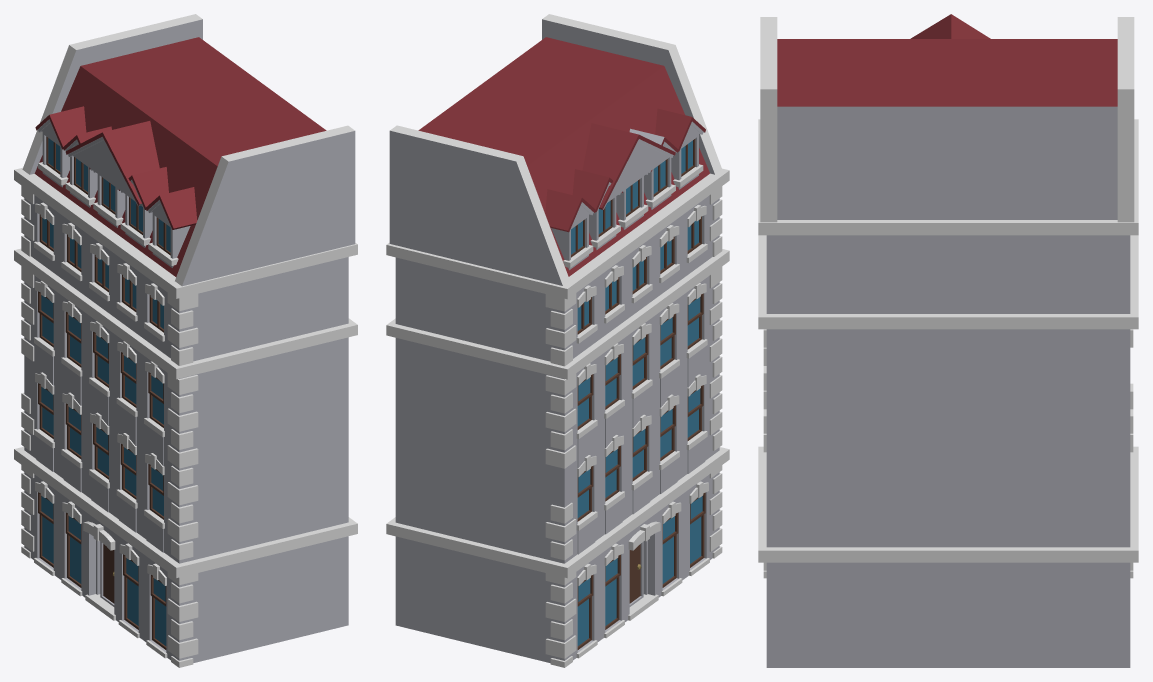
Rendered from house02.fbx.
3 views of the same model, side by side, from view 1: azimuth 30°, elevation 25°; view 2: azimuth 150°, elevation 25°; view 3: azimuth 270°, elevation 25° (orthographic). The views are drawn at different scales.
Parts seen in each view (by area): view 1: _house02; view 2: _house02; view 3: _house02.
Boxes of the visible parts, box(x1,y1,x2,y2) form: _house02: box(14, 14, 357, 667); _house02: box(386, 14, 729, 667); _house02: box(758, 14, 1138, 667).
Size of the model in its own units: 76.17 by 199 by 118.
